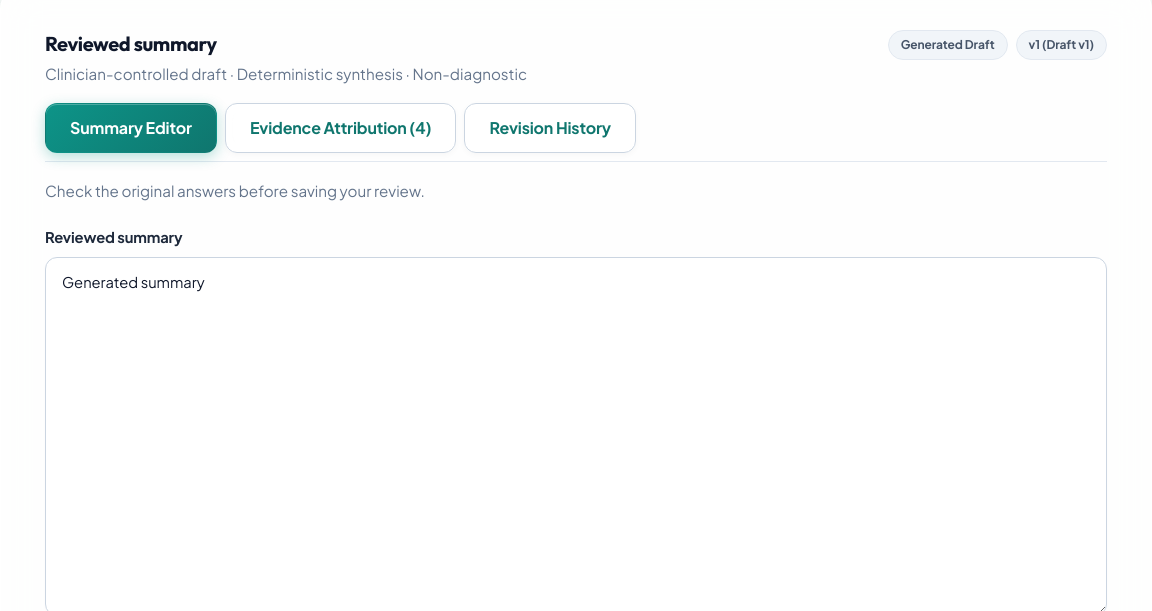
Test: evidence-linked clinical summary › expands deterministic provenance and exposes source-document navigation
What coordinates should you click on to do the following:
click the button "Evidence Attribution (4)"
I would click on:
 (341, 128)
Its box is [225,103,456,153].
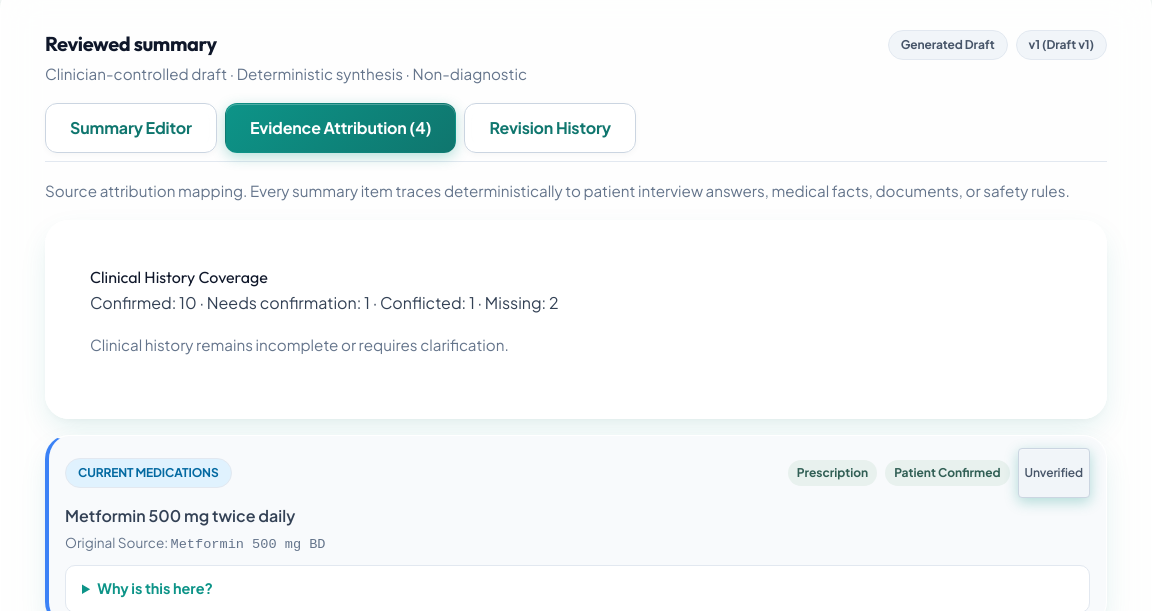
Now the text "Metformin 500 mg twice daily" is shown, box [65,505,295,526]
What coordinates should you click on to do the following:
click the heading "Why is this here?"
I would click on:
 (155, 588)
Its box is [97,579,213,597].
(page scrolled)
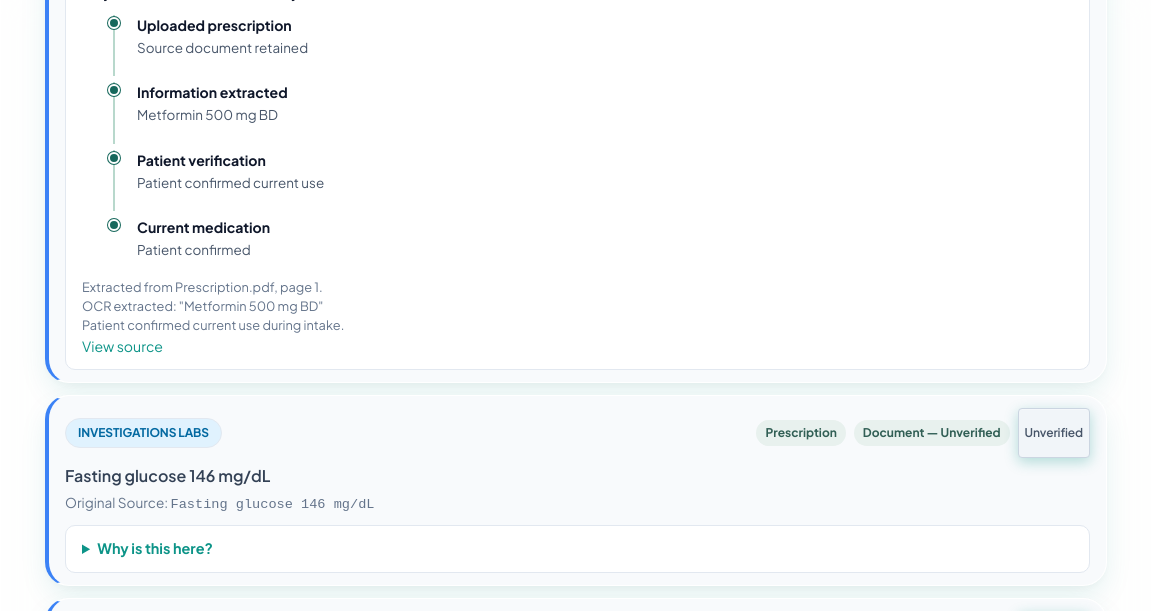
Now the text "Uploaded prescription" is shown, box [137,16,292,34]
Now the text "Information extracted" is shown, box [137,83,288,101]
Now the text "Patient verification" is shown, box [137,150,266,168]
